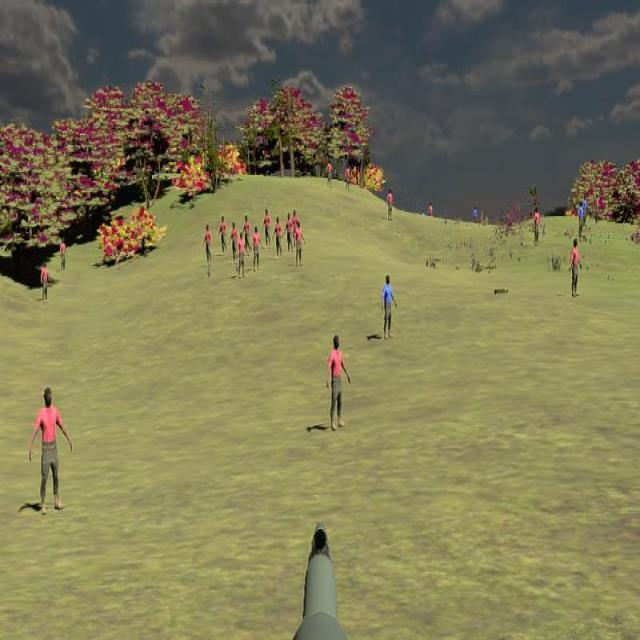Human: (29, 386, 72, 514), (327, 334, 349, 430), (382, 274, 397, 340)
